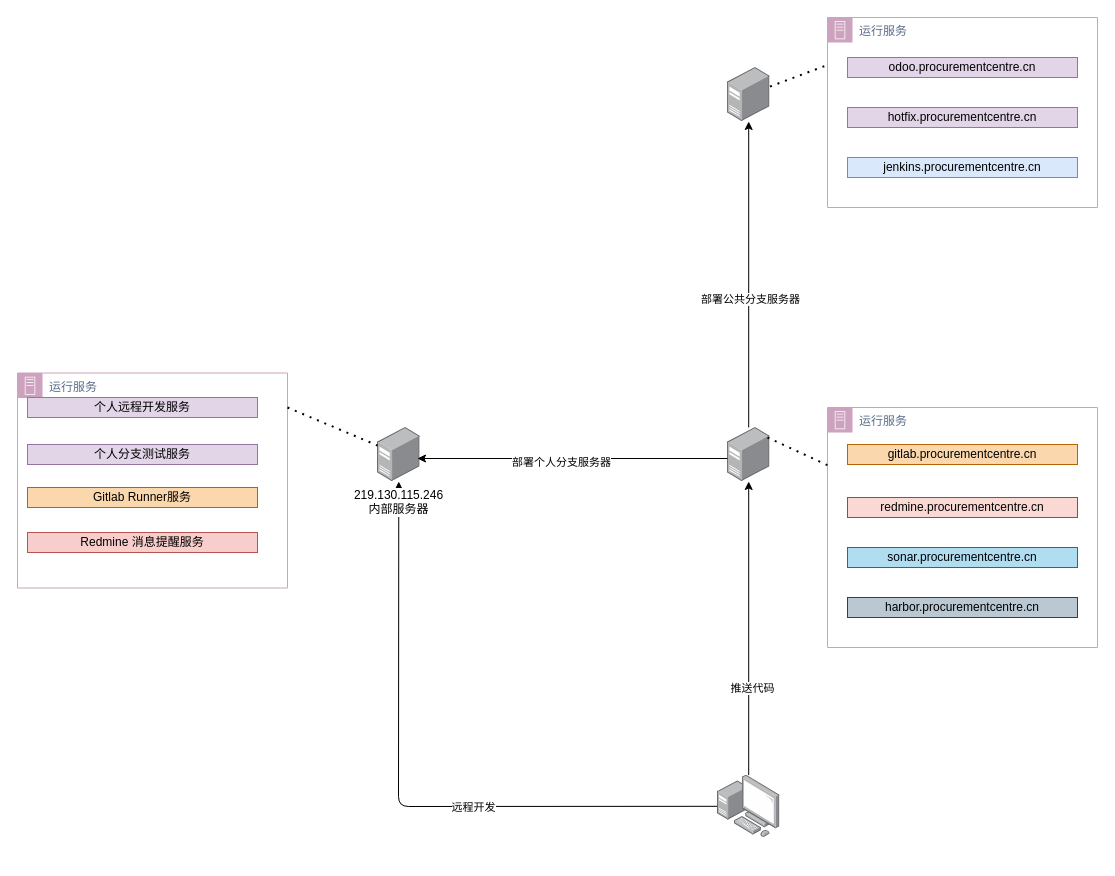
This 1115x876 diagram has some shape labels left out. The box of each missing label's shape, as (x1, y1, x2, y2) in pixels:
119.28.42.38 香港腾讯云服务器: (727, 67, 770, 121)
47.115.14.222 阿里云服务器: (727, 427, 770, 481)
开发环境: (717, 775, 779, 837)
